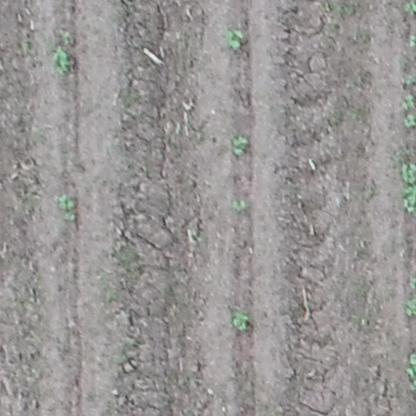vc: (398, 160, 415, 210), (57, 193, 78, 221), (52, 47, 72, 76), (225, 26, 245, 50), (232, 133, 251, 158), (231, 310, 250, 335), (231, 198, 248, 211), (402, 91, 415, 108), (403, 112, 416, 127)
